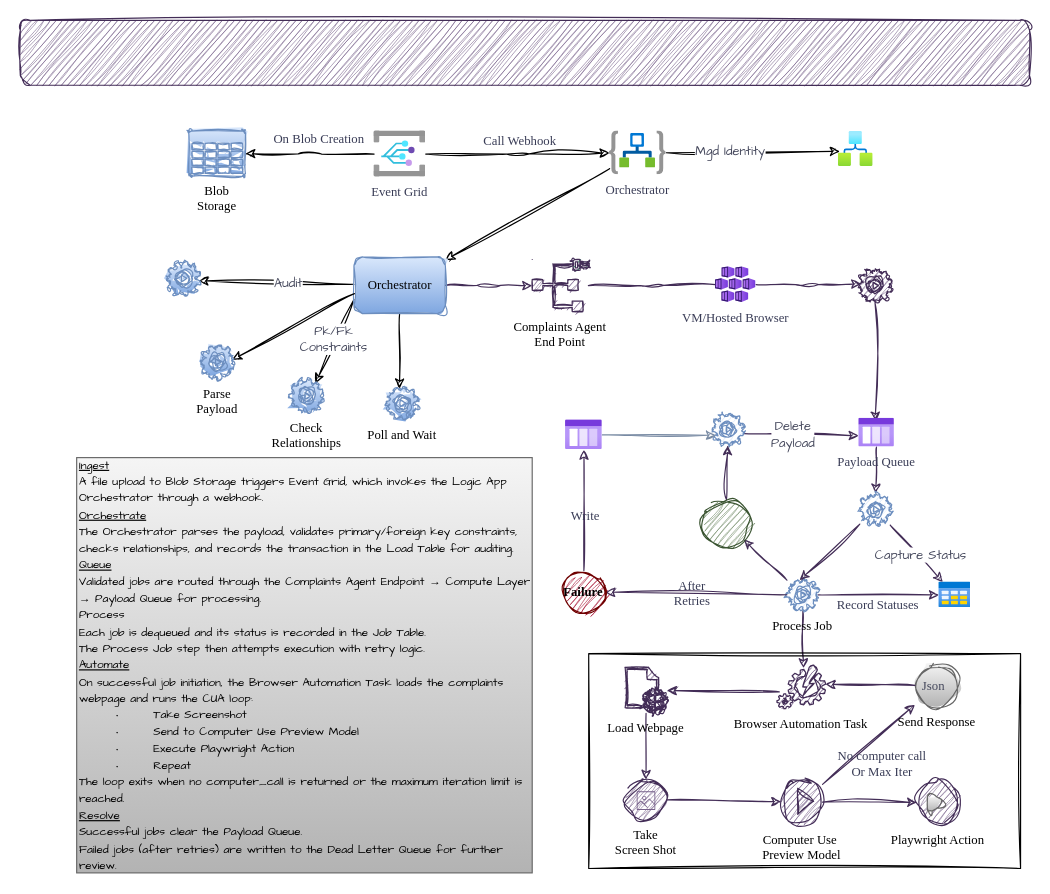
This 1050x894 diagram has some shape labels left out. The centre of each missing label's shape, as x and y in pixels:
Clear Payload: the point at 727,429
Connector: the point at 855,148
Dead letter Queue: the point at 583,434
Dequeue Record: the point at 875,508
Job table: the point at 954,594
Load Table: the point at 182,277
Queue Record: the point at 874,285
Success: the point at 725,523
Zava Air Autonomous Complaints Agent with Computer Use Model: the point at 524,52
